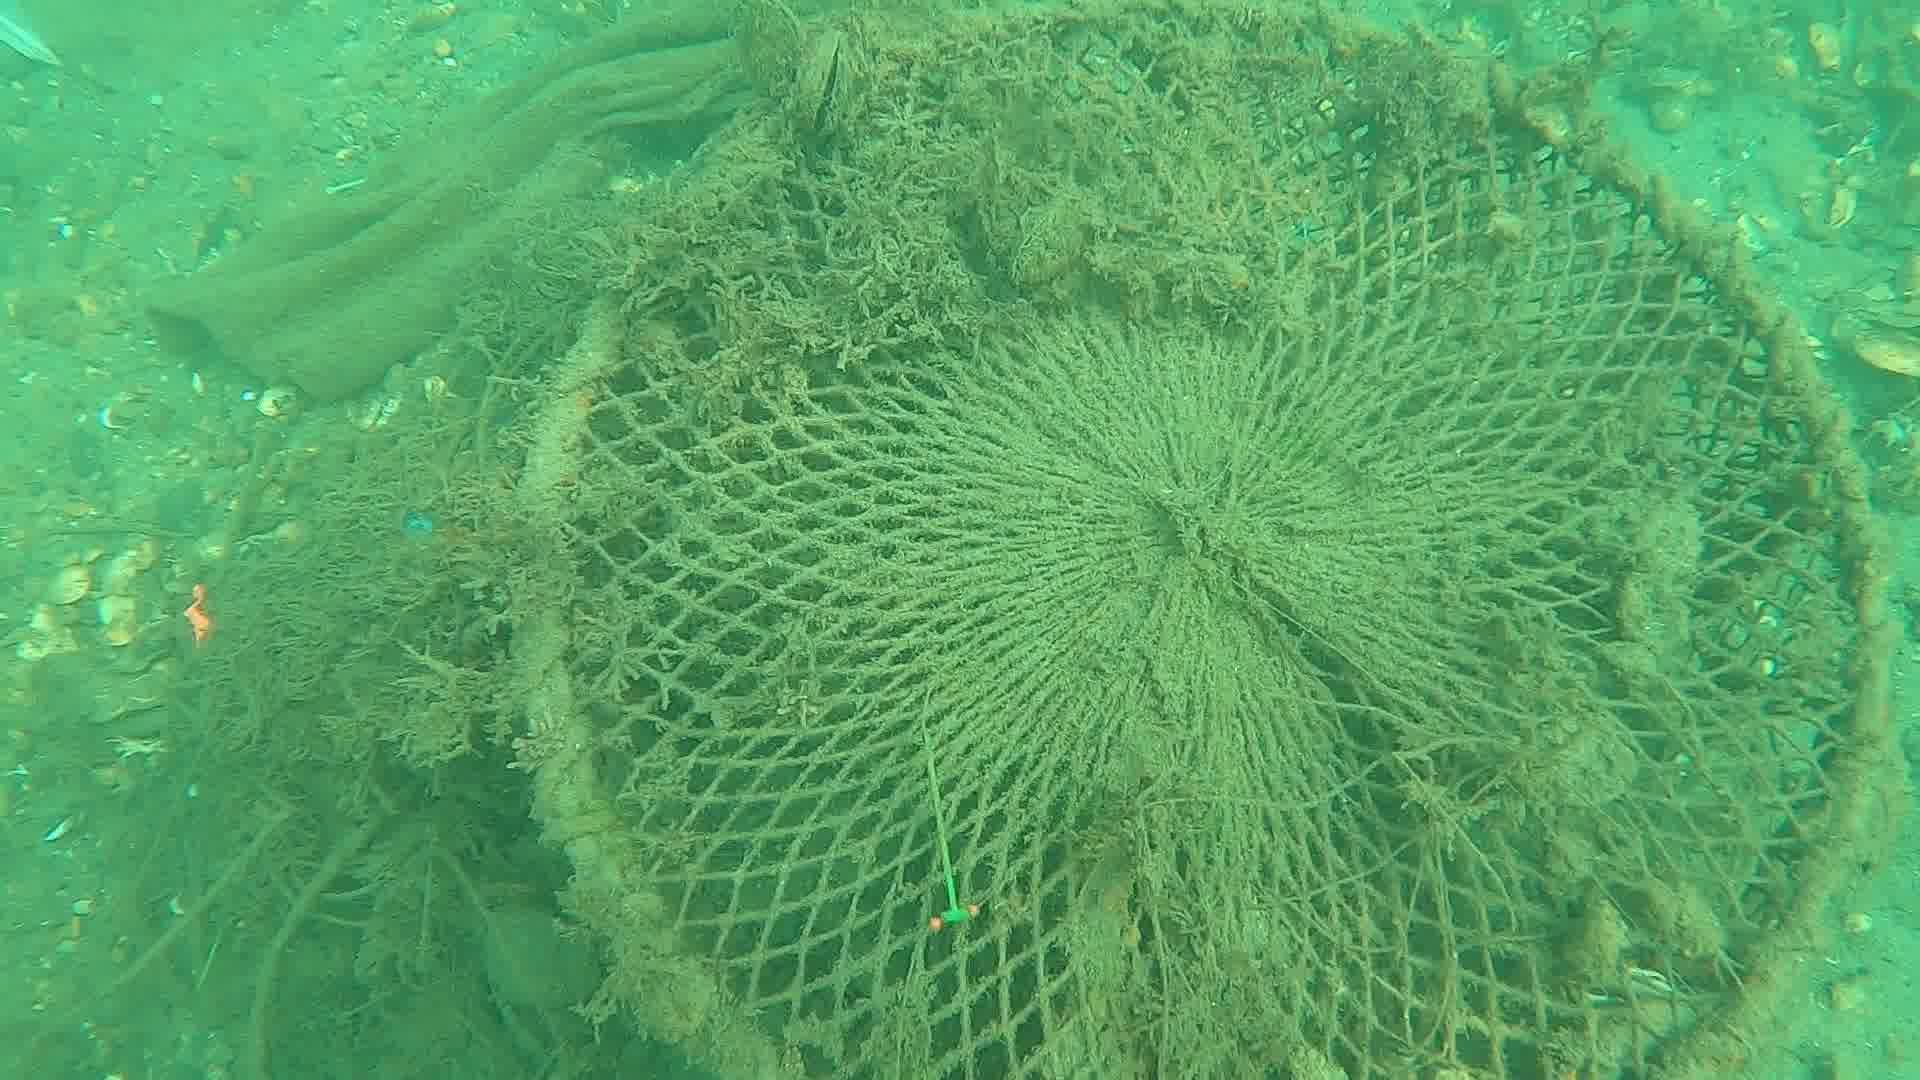circular fish trap: (505, 0, 1896, 1080)
